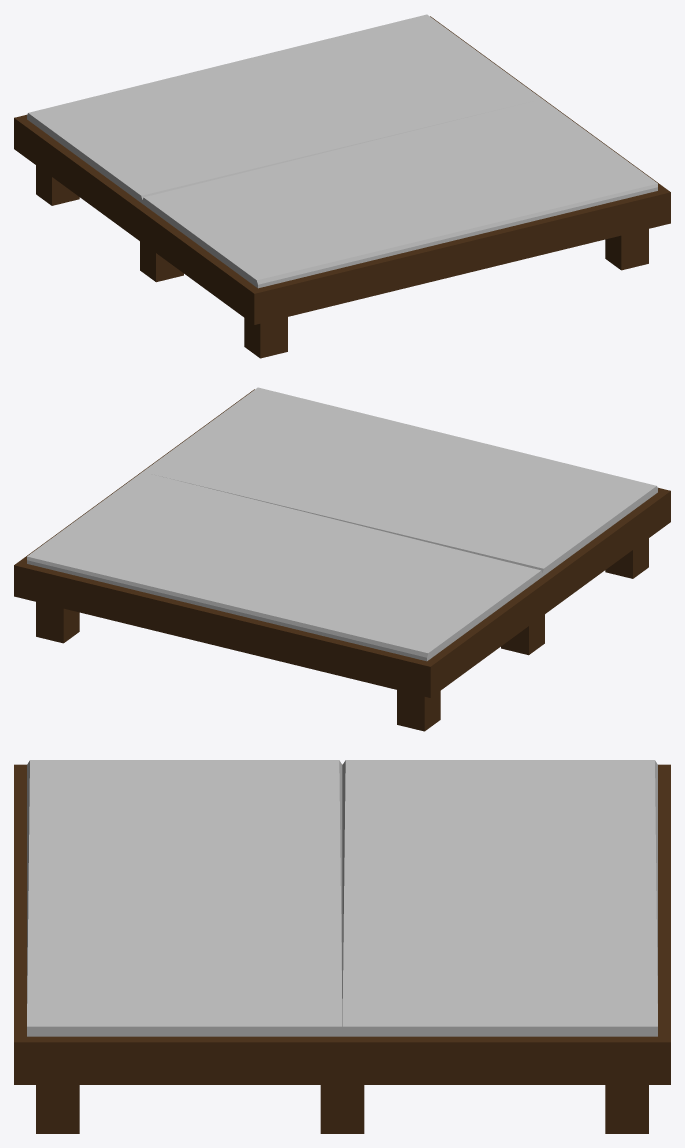
Rendered from bed_01_mockup.fbx.
3 renders of one model, top to bottom at view 1: azimuth 30°, elevation 25°; view 2: azimuth 150°, elevation 25°; view 3: azimuth 270°, elevation 25°, orthographic. The views are drawn at different scales.
Visible parts, largest first — view 1: Plane; view 2: Plane; view 3: Plane.
Part boxes in pixels (x1,y1,x2,y2): Plane: (14, 14, 670, 358); Plane: (14, 387, 670, 731); Plane: (14, 760, 670, 1133).
Bounding box in the file's own units: 1.5 × 1.5 × 0.2795.
